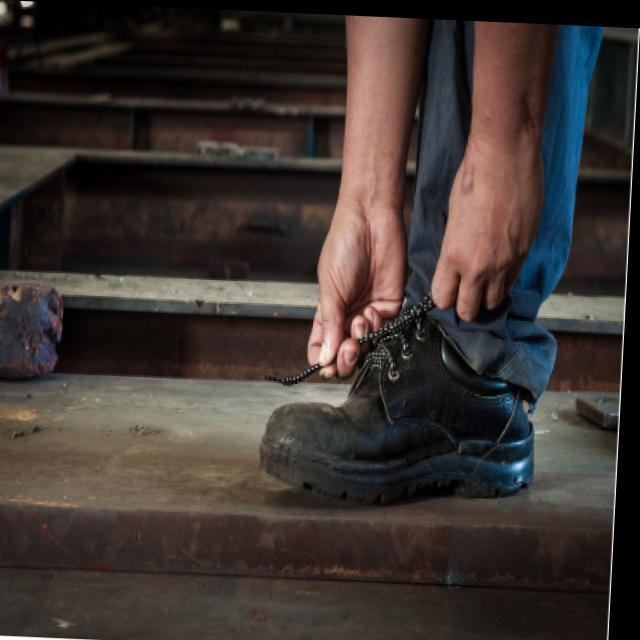boots: (256, 270, 553, 521)
